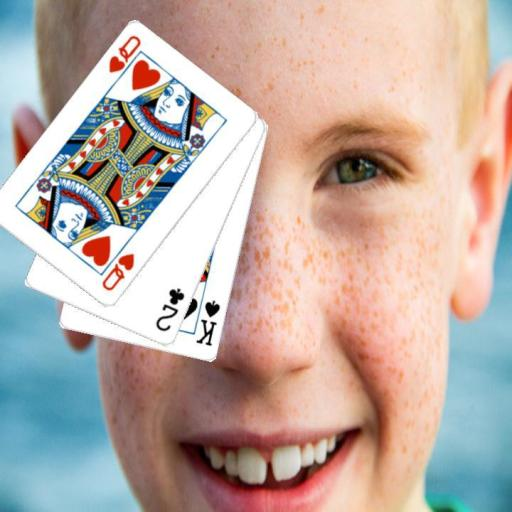2C: (152, 285, 186, 334)
KS: (193, 298, 222, 349)
QH: (106, 32, 145, 87), (99, 250, 136, 293)
